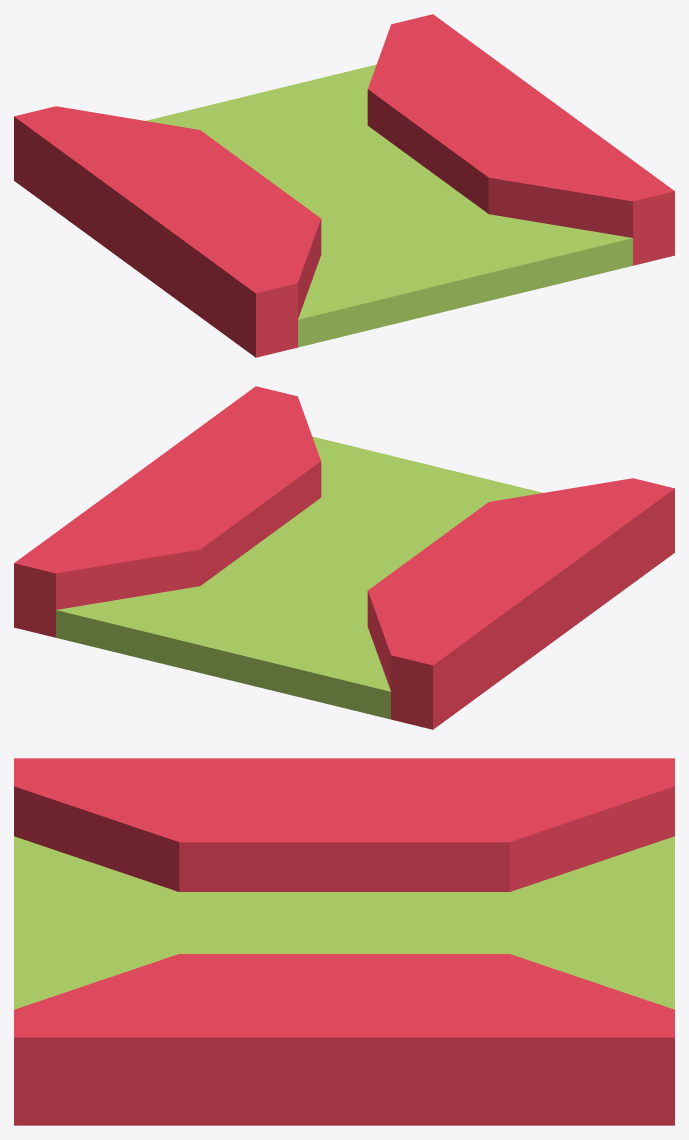
File: narrowSquare.fbx
3 views of the same model, one above another, from view 1: azimuth 30°, elevation 25°; view 2: azimuth 150°, elevation 25°; view 3: azimuth 270°, elevation 25° (orthographic). The views are drawn at different scales.
Visible parts, largest first — view 1: narrowSquare; view 2: narrowSquare; view 3: narrowSquare.
Boxes of the visible parts, left/top/right/bottom form: narrowSquare: left=14, top=14, right=674, bottom=357; narrowSquare: left=14, top=386, right=674, bottom=729; narrowSquare: left=14, top=758, right=674, bottom=1125.
Bounding box in the file's own units: 10 × 1.47 × 10.
